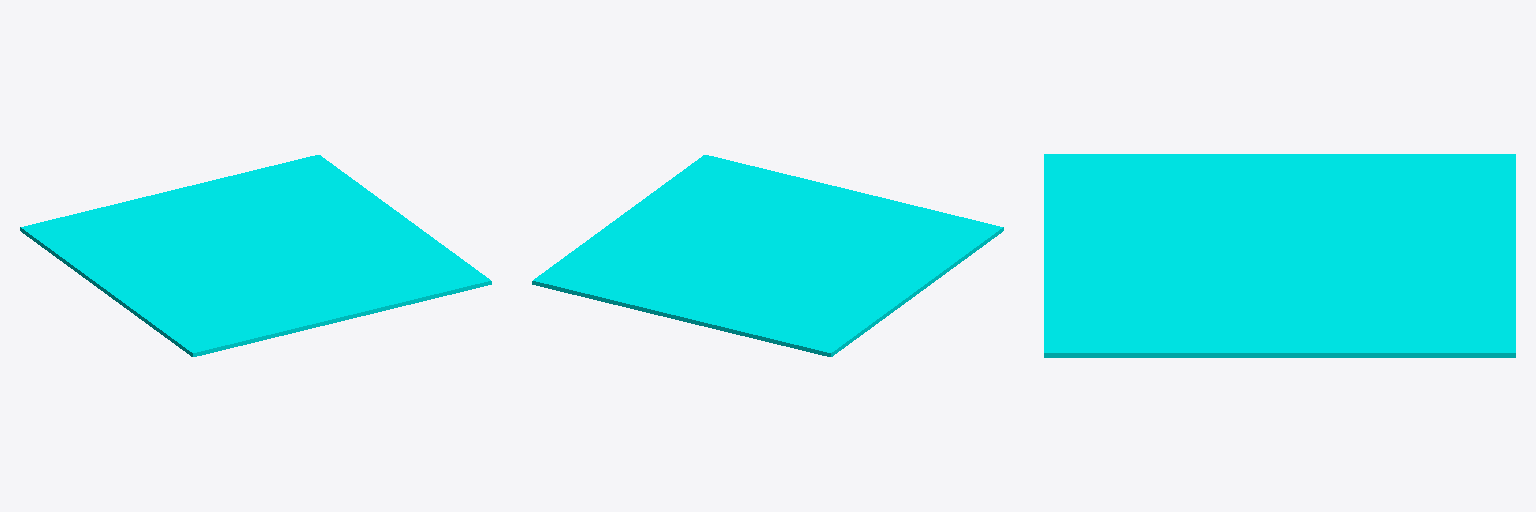
robot.urdf — base plate:
<?xml version="1.0"?>
<!-- created with Phobos 1.0.1 "Capricious Choutengan" -->
  <robot name="base plate">

    <link name="Untitled">
      <inertial>
        <origin xyz="0 0 0" rpy="0 0 0"/>
        <mass value="0.001"/>
        <inertia ixx="0.001" ixy="0" ixz="0" iyy="0.001" iyz="0" izz="0.001"/>
      </inertial>
      <visual name="Cube">
        <origin xyz="0 0 0" rpy="0 0 0"/>
        <geometry>
          <box size="0.75 0.75 0.01"/>
        </geometry>
        <material name="Material.004"/>
      </visual>
    </link>

    <material name="Material.004">
      <color rgba="0 1 1 1.0"/>
    </material>

  </robot>

--- Render facts (derived) ---
The picture shows the robot from 3 angles, left to right: view 1: azimuth 30°, elevation 25°; view 2: azimuth 150°, elevation 25°; view 3: azimuth 270°, elevation 25°; orthographic projection.
Robot: base plate — 1 links, 0 joints (none); root link Untitled; default pose: every joint at zero.
Links seen in each view (by area): view 1: Untitled; view 2: Untitled; view 3: Untitled.
Boxes of the visible links, <box> form: Untitled: <box>20,155,491,356</box>; Untitled: <box>532,155,1003,356</box>; Untitled: <box>1044,154,1515,357</box>.
Bounding box of the posed robot: 0.75 × 0.75 × 0.01 m (x, y, z).
Geometry: primitives only (box / cylinder / sphere), no mesh files.